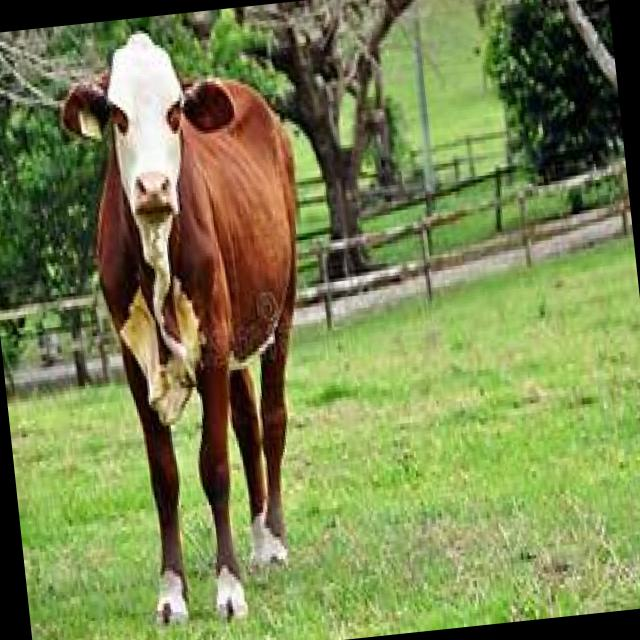animal: (56, 19, 340, 628)
